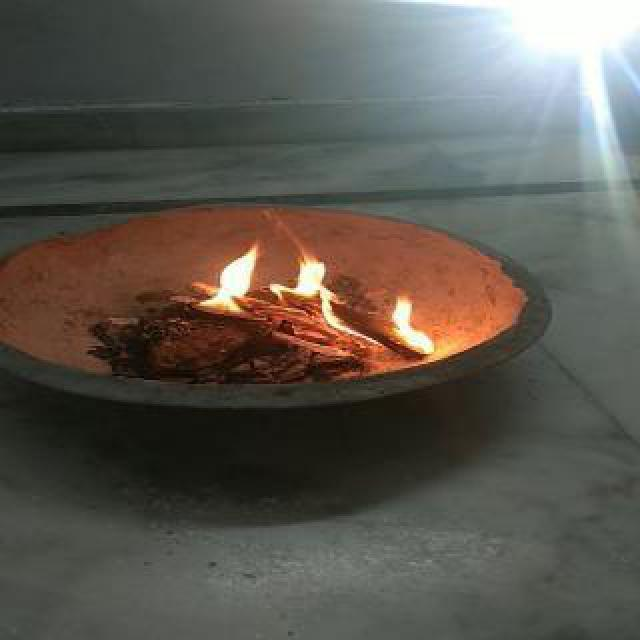zfire: (184, 242, 442, 368)
